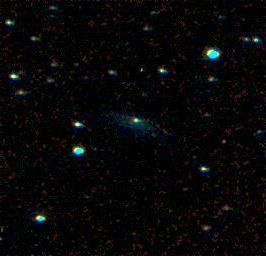star: (212, 127, 242, 157)
